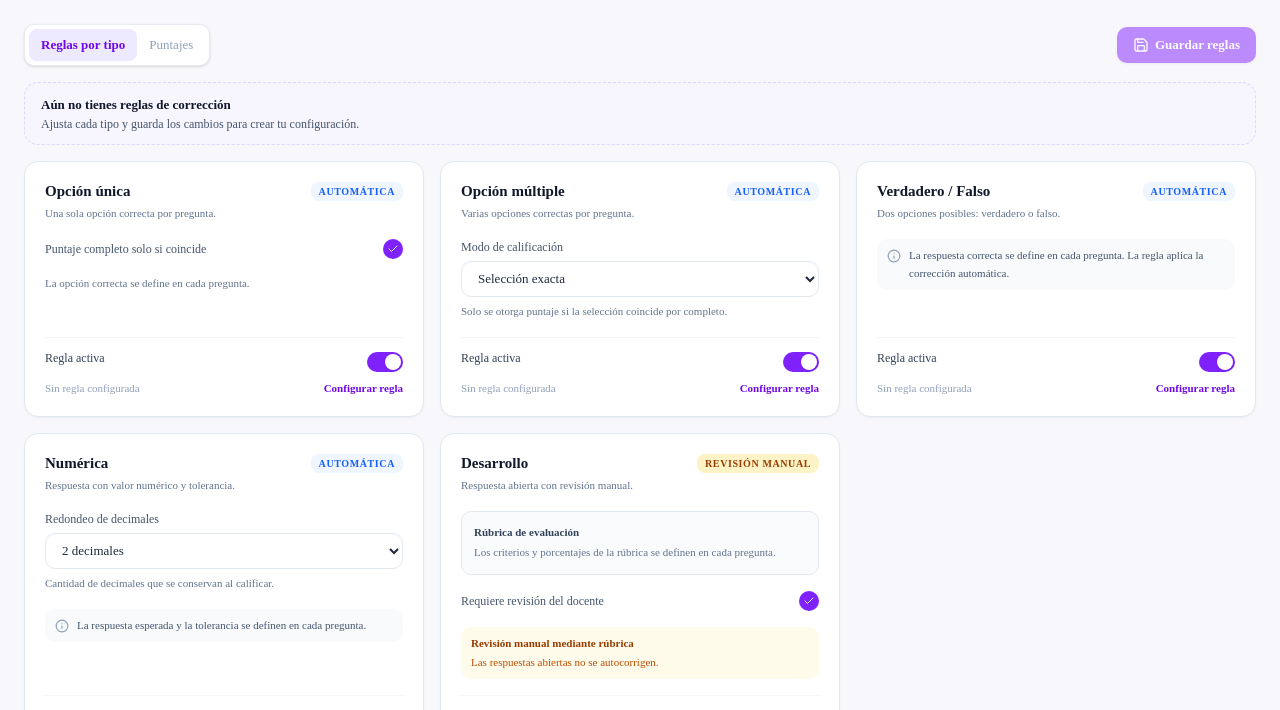
Test case: ReglasCorreccion › muestra los errores de validación del backend
This screenshot has width=1280, height=710.
Expected: the text "Aún no tienes reglas de corrección" is shown, [41, 96, 231, 112]
Select "3 decimales" in the dropdown labelled "Redondeo de decimales": x=224, y=551 [45, 533, 403, 569]
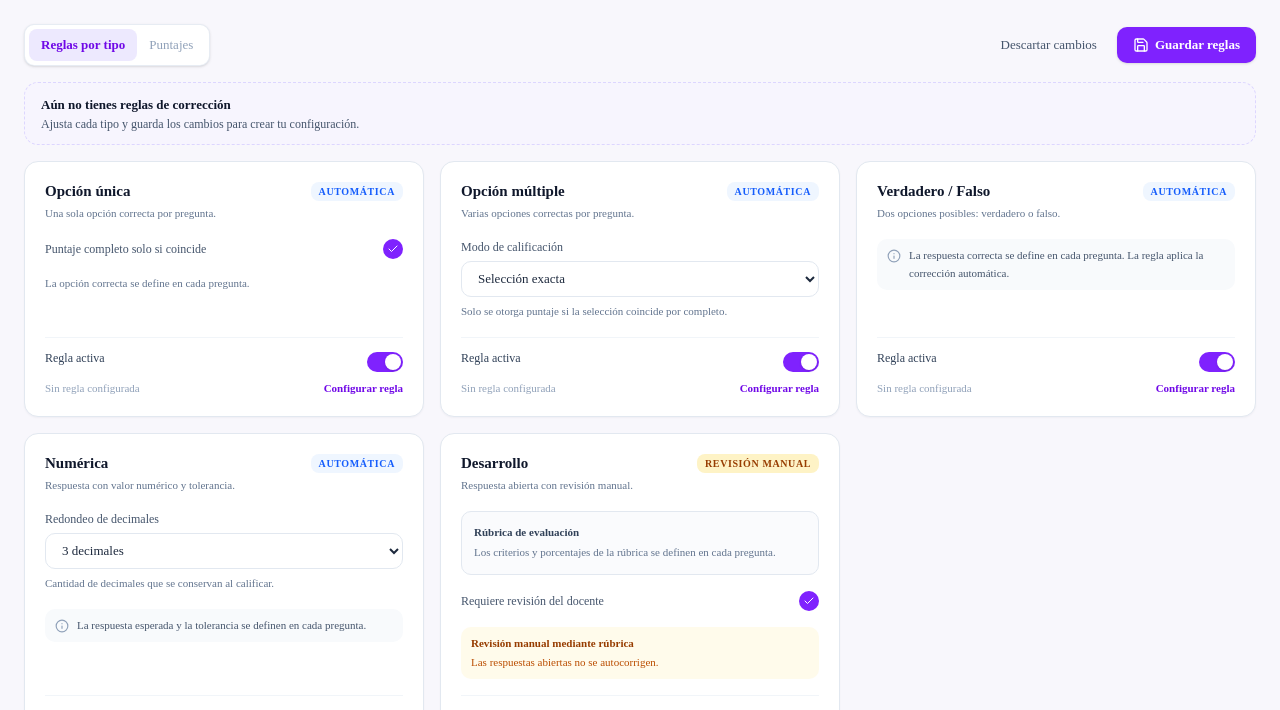
Click the button "Guardar reglas": x=1186, y=45 [1117, 27, 1256, 63]
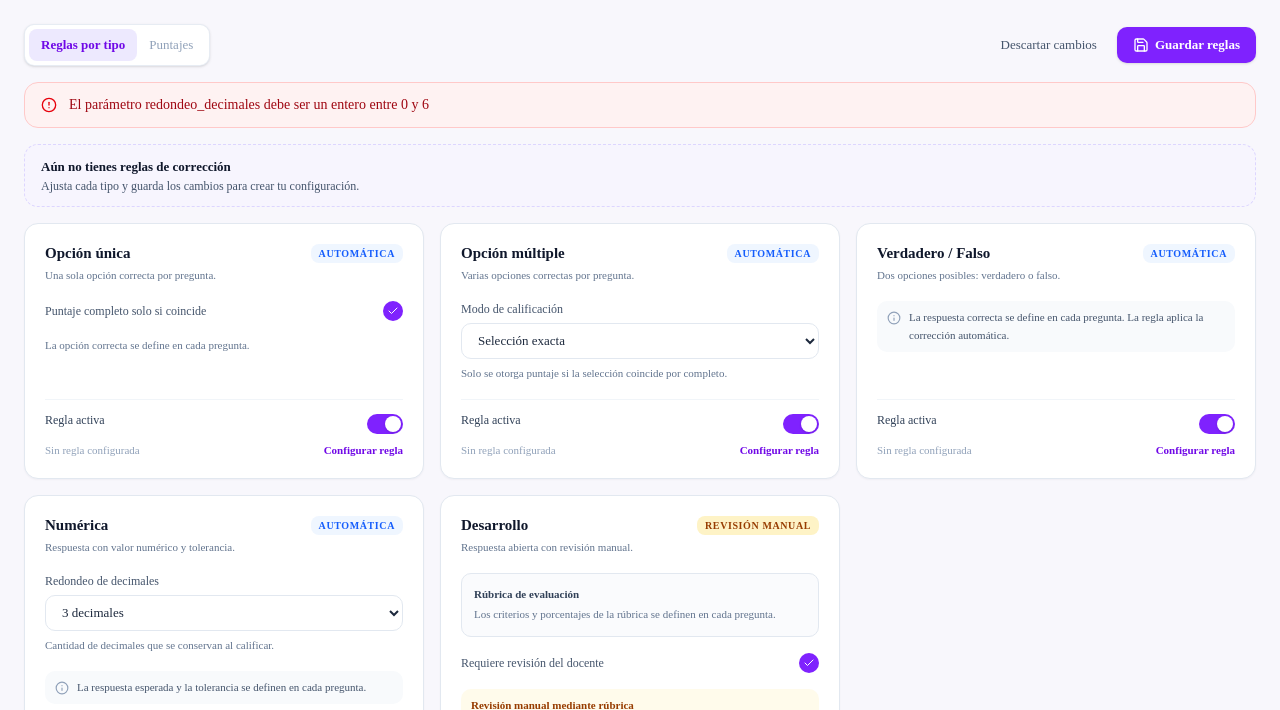
Expected: the text "El parámetro redondeo_decimales debe ser un entero entre 0 y 6" is shown, [69, 94, 429, 114]
